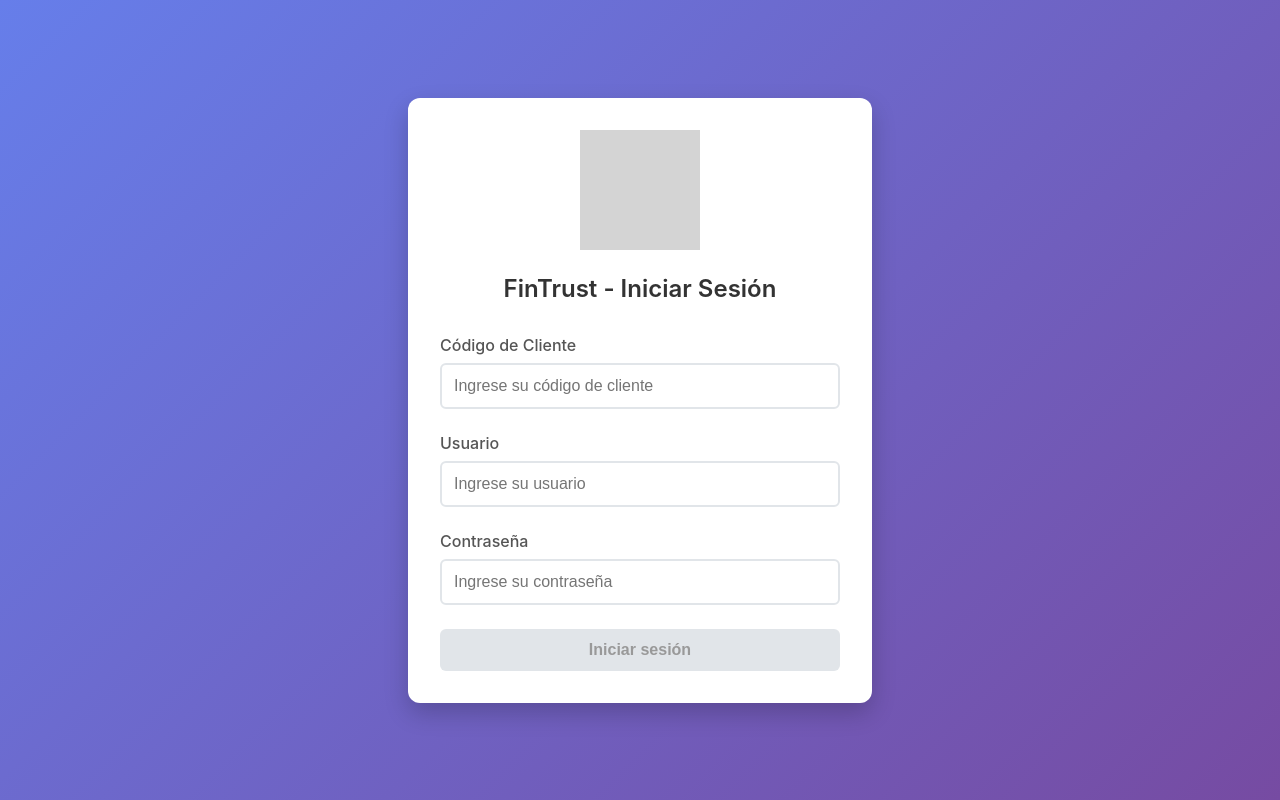
Test: LoginForm › el botón se deshabilita si se vacía algún campo
Type "12345" into the field labelled "Código de Cliente" at (640, 386), box [440,362,840,408]
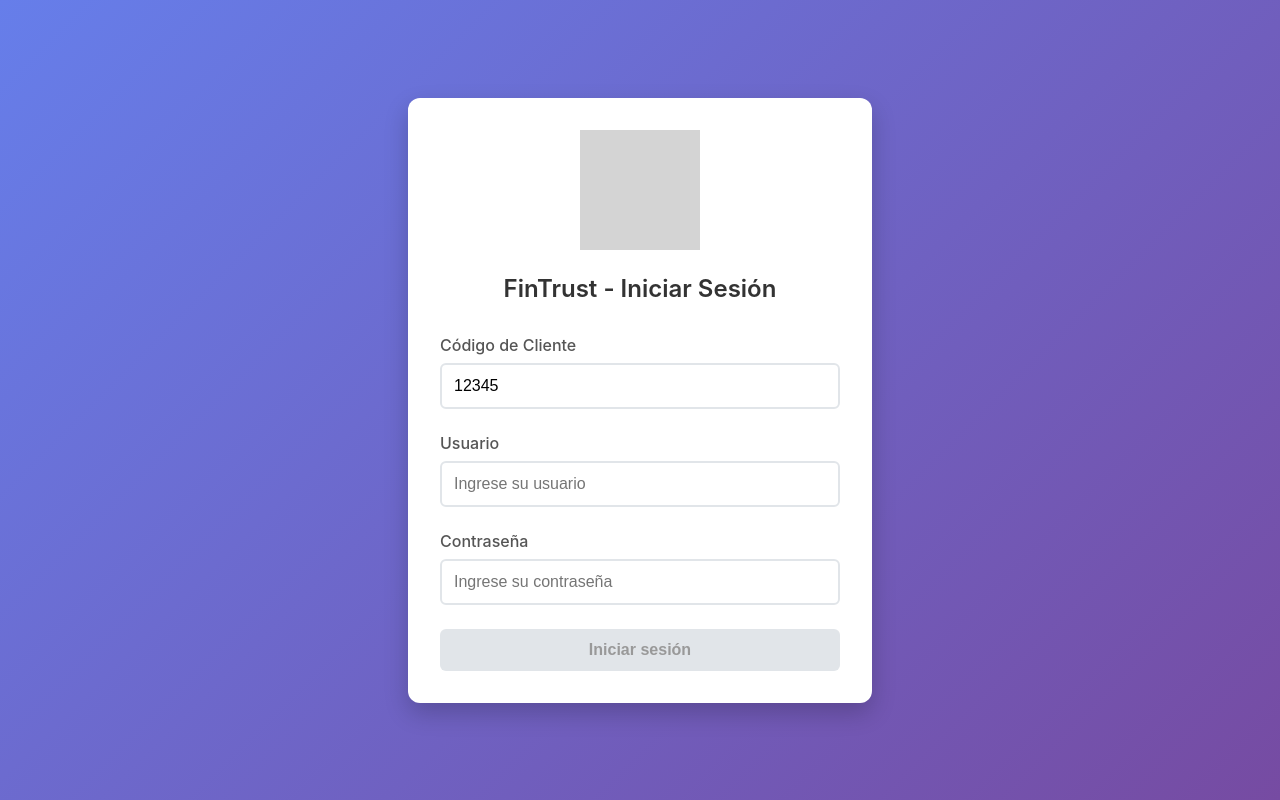
Type "usuario1" into the field labelled "Usuario" at (640, 484), box [440,460,840,506]
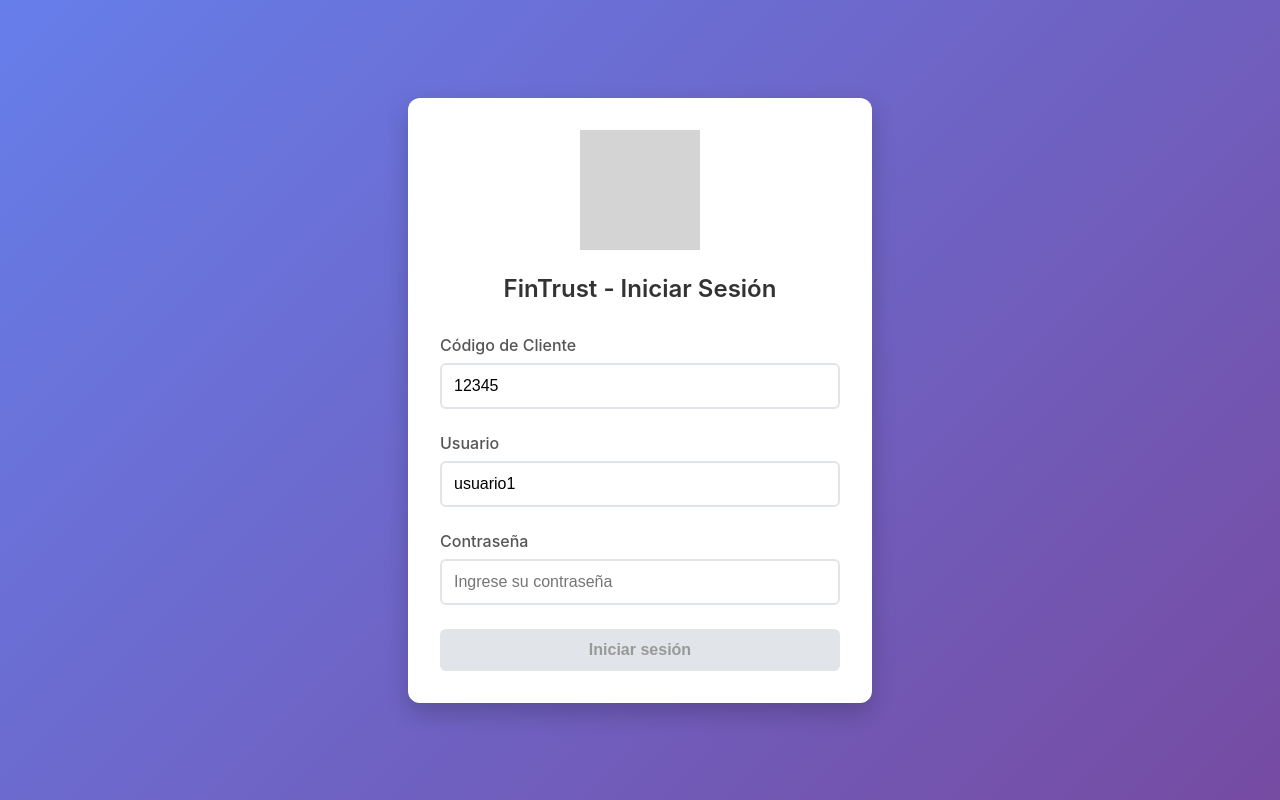
Type "password123" into the password field labelled "Contraseña" at (640, 582), box [440,558,840,604]
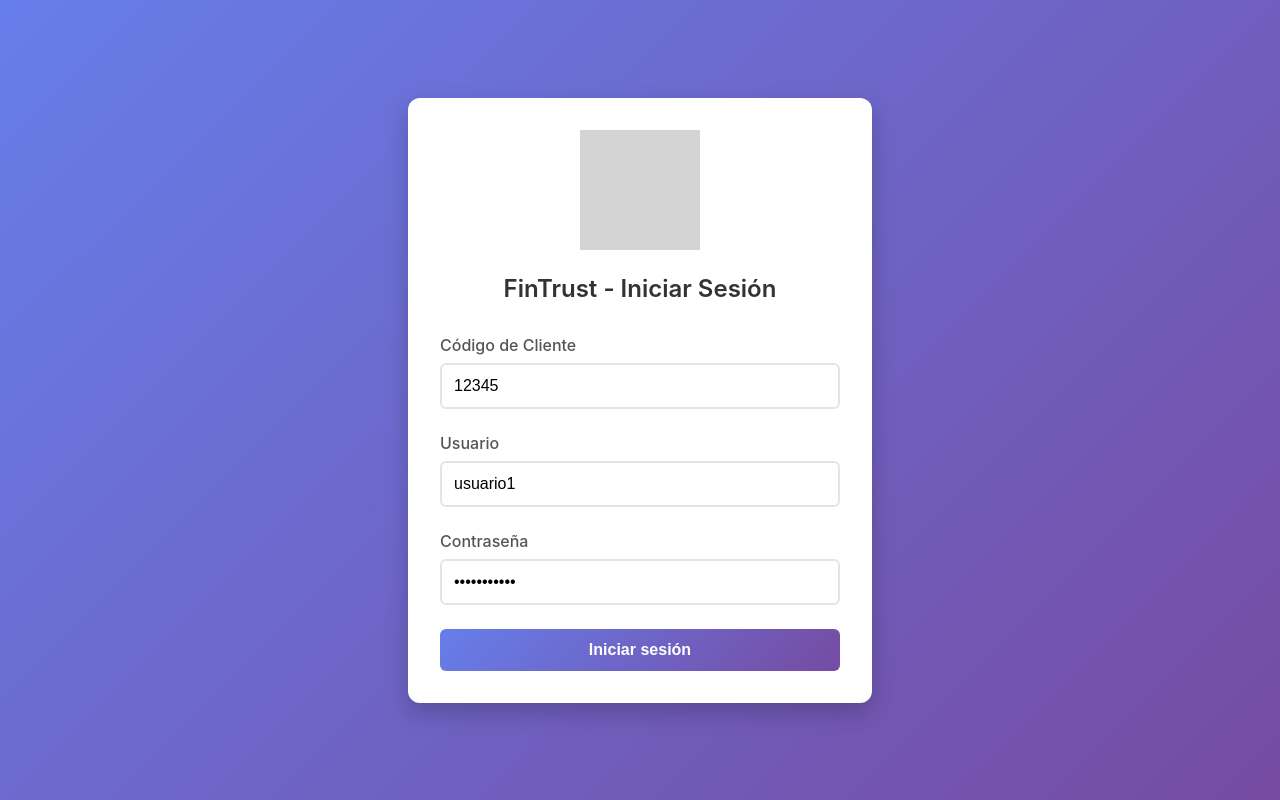
Expected: the button "Iniciar sesión" is enabled, [440,628,840,670]
Clear the field labelled "Usuario" at (640, 484), box [440,460,840,506]
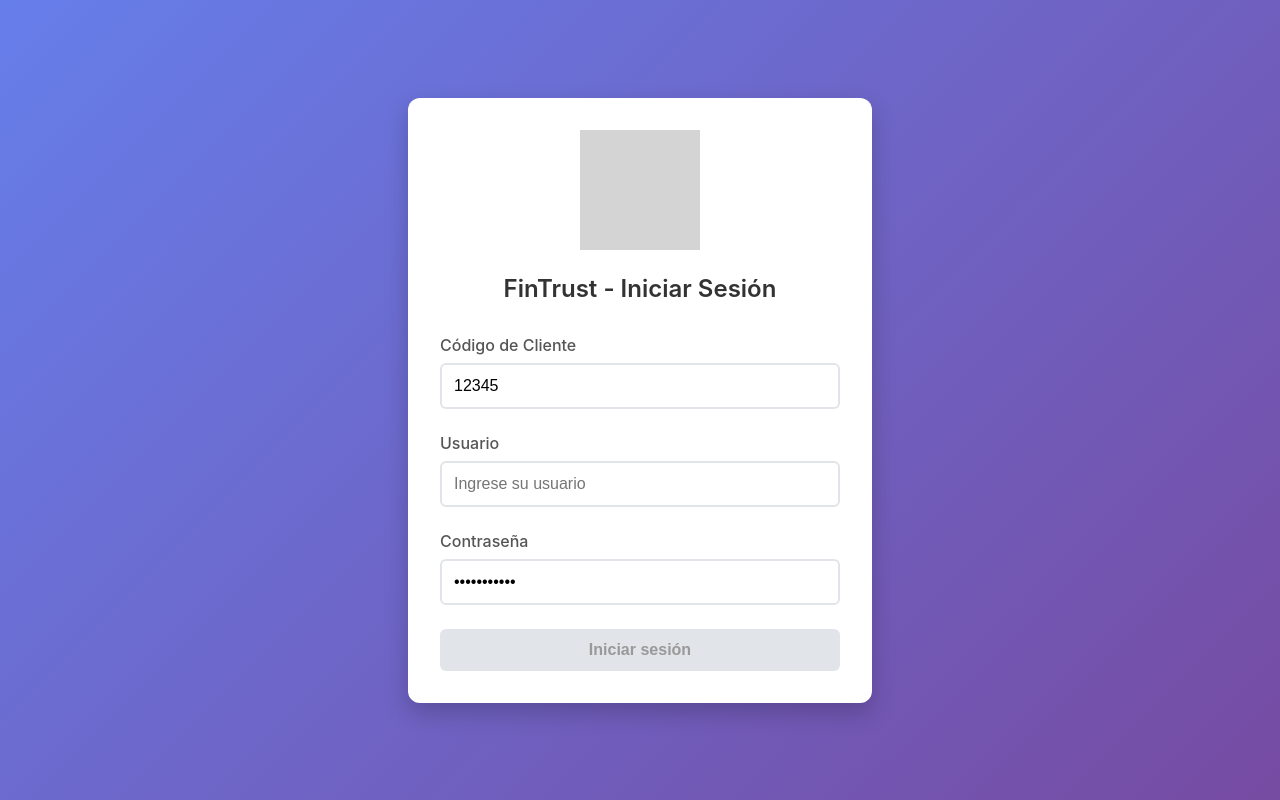
Expected: the button "Iniciar sesión" is disabled, [440,628,840,670]
